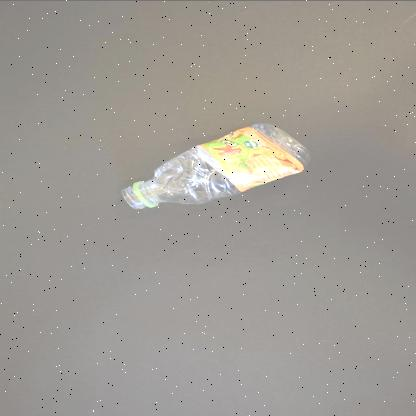Plastic Bottle: (122, 122, 310, 207)
